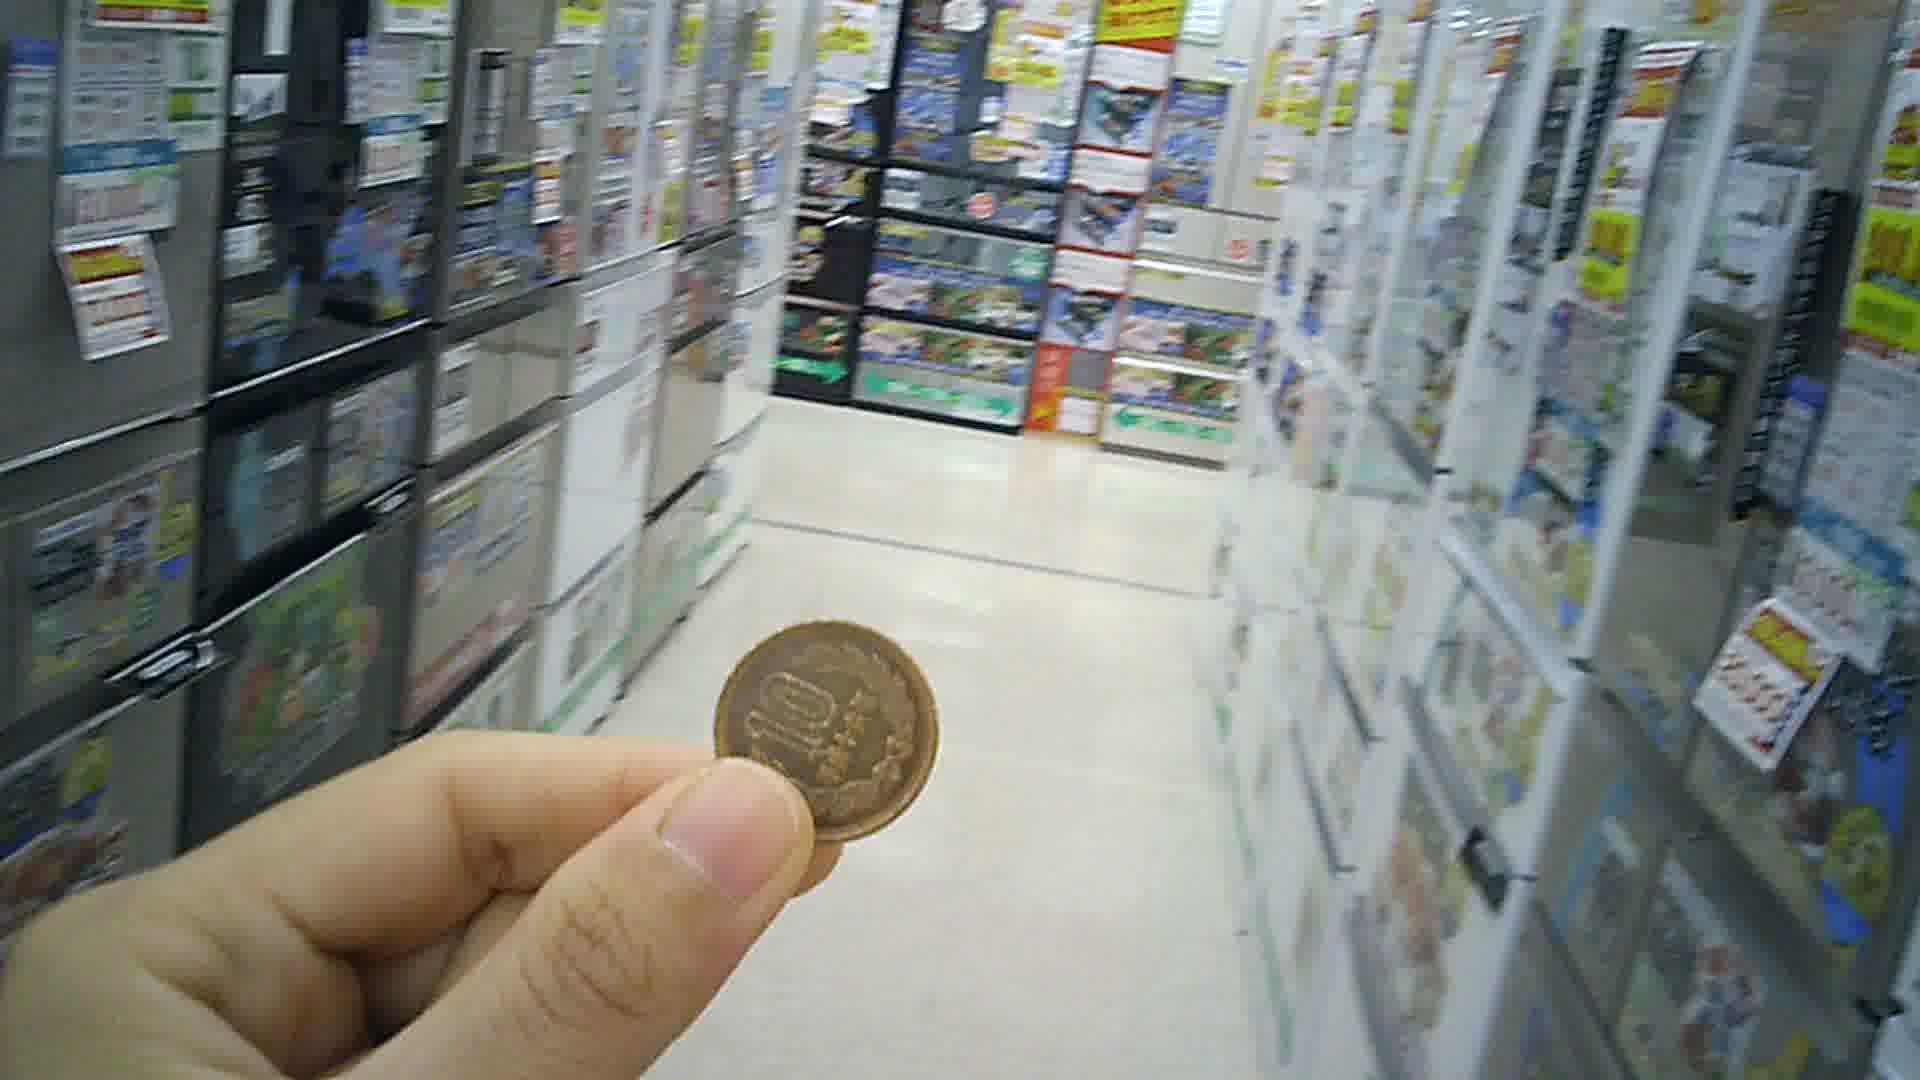10 Yen: (709, 618, 942, 848)
